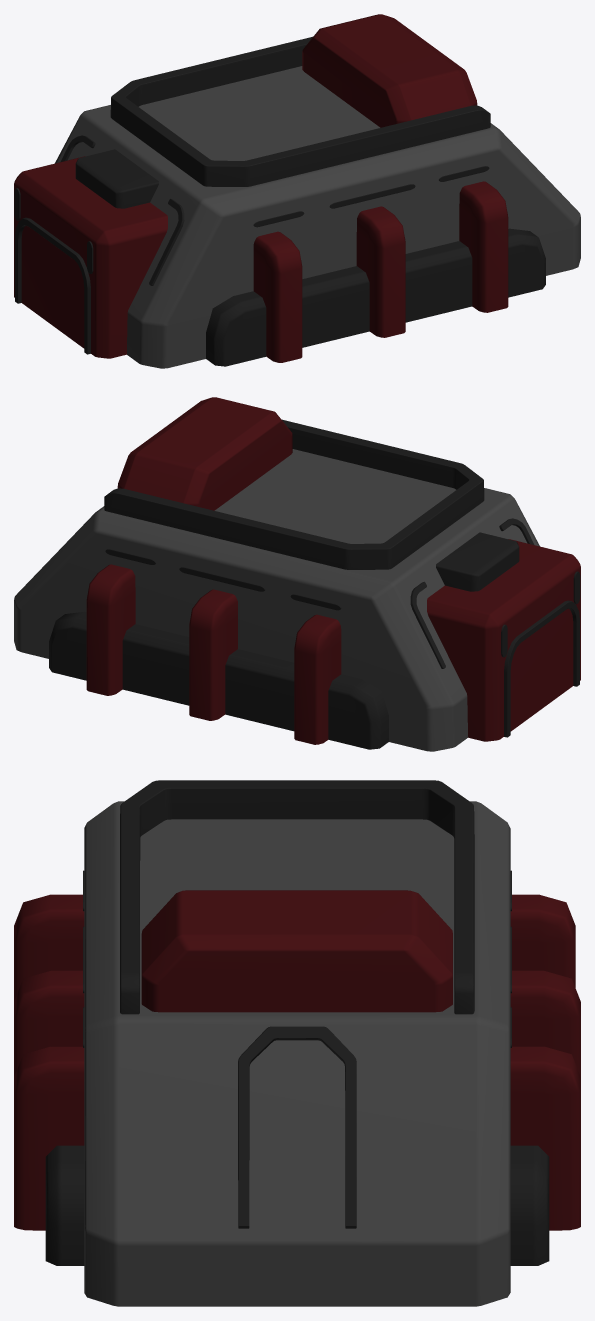
Rendered from colony_Resource_warehouse.glb.
The picture shows the model from 3 angles, top to bottom: view 1: azimuth 30°, elevation 25°; view 2: azimuth 150°, elevation 25°; view 3: azimuth 270°, elevation 25°; orthographic projection. The views are drawn at different scales.
Parts seen in each view (by area): view 1: Resource_warehouse; view 2: Resource_warehouse; view 3: Resource_warehouse.
Part boxes in pixels (x1,y1,x2,y2): Resource_warehouse: (14,14,580,368); Resource_warehouse: (14,397,580,751); Resource_warehouse: (14,780,580,1306).
Size of the model in its own units: 1610 by 642 by 1111.
1 material, 1 textured.
